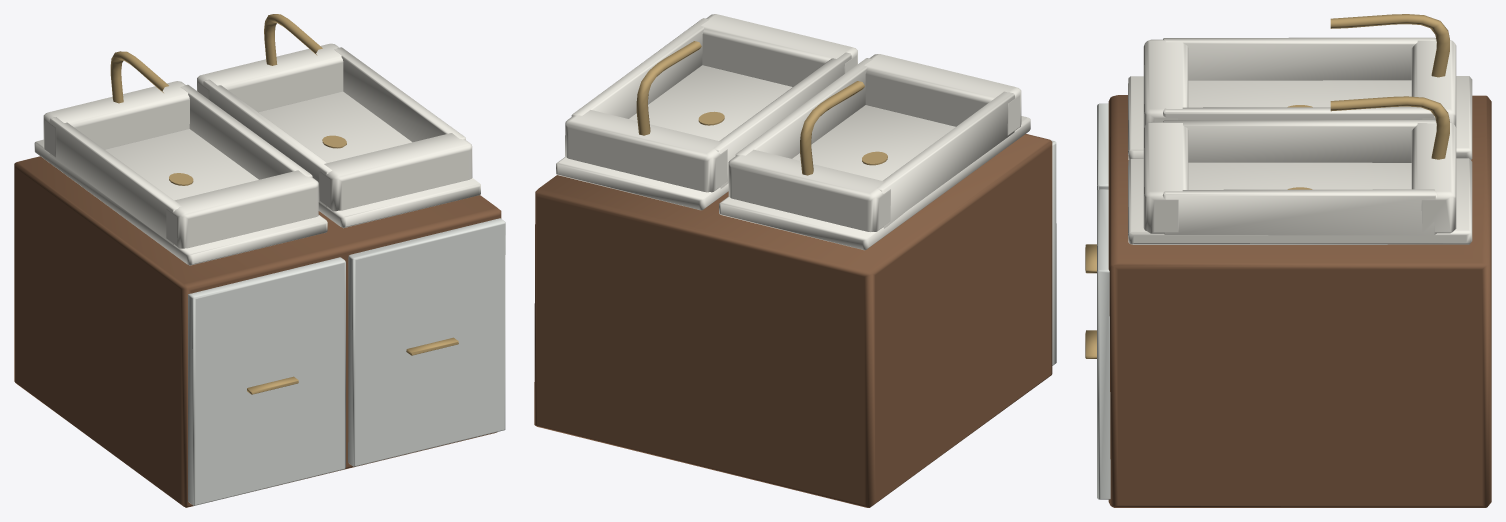
Rendered from sink-7-1.lod.glb.
3 renders of one model, left to right at view 1: azimuth 30°, elevation 25°; view 2: azimuth 150°, elevation 25°; view 3: azimuth 270°, elevation 25°, orthographic. The views are drawn at different scales.
Visible parts, largest first — view 1: upholstery (×4); view 2: upholstery (×4); view 3: upholstery (×4).
Part boxes in pixels (x1=…): upholstery (×4): x1=14, y1=14, x2=505, y2=507; upholstery (×4): x1=534, y1=14, x2=1056, y2=507; upholstery (×4): x1=1085, y1=14, x2=1491, y2=507.
Bounding box in the file's own units: 1 × 1 × 1.
